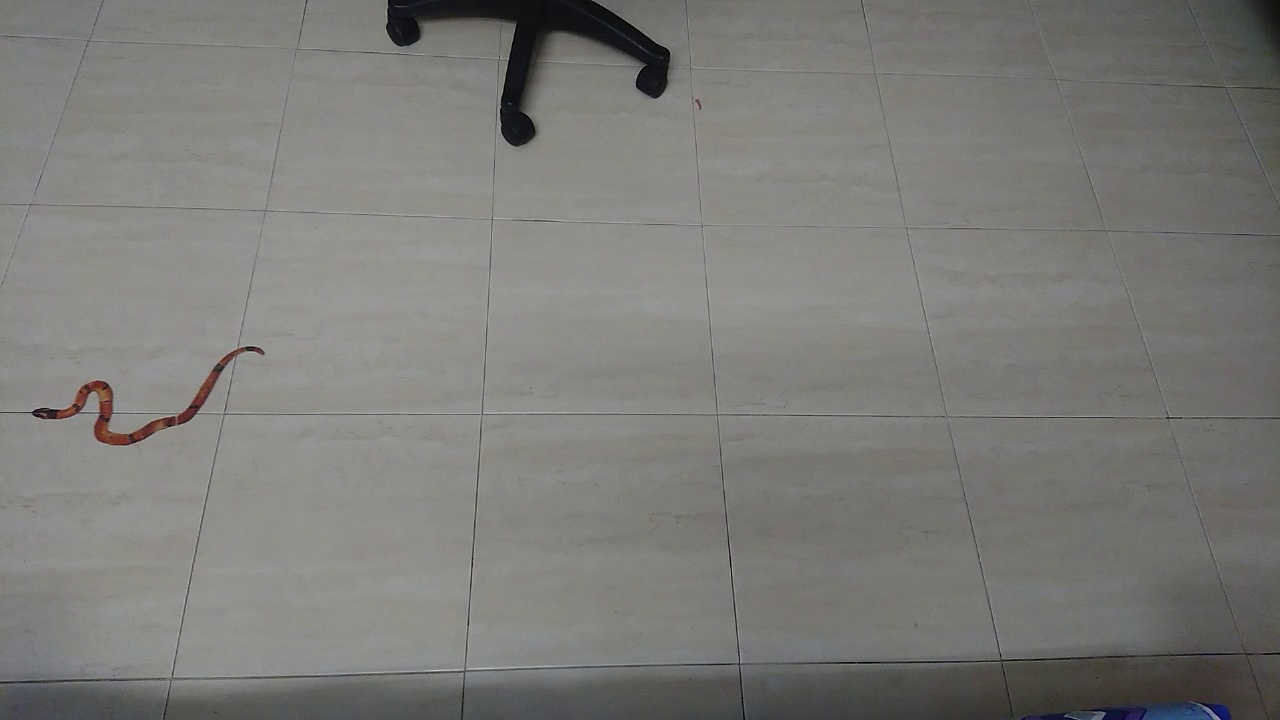snake: (14, 329, 282, 457)
